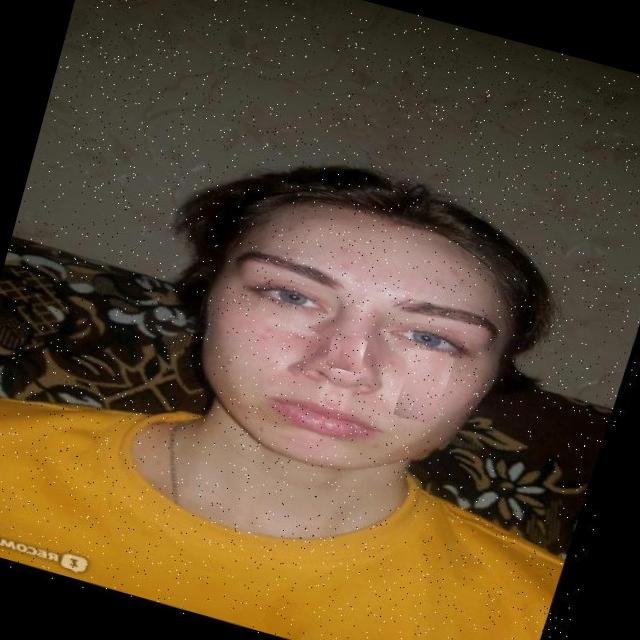redness: (239, 298, 328, 378), (400, 349, 452, 425), (330, 336, 368, 373)
